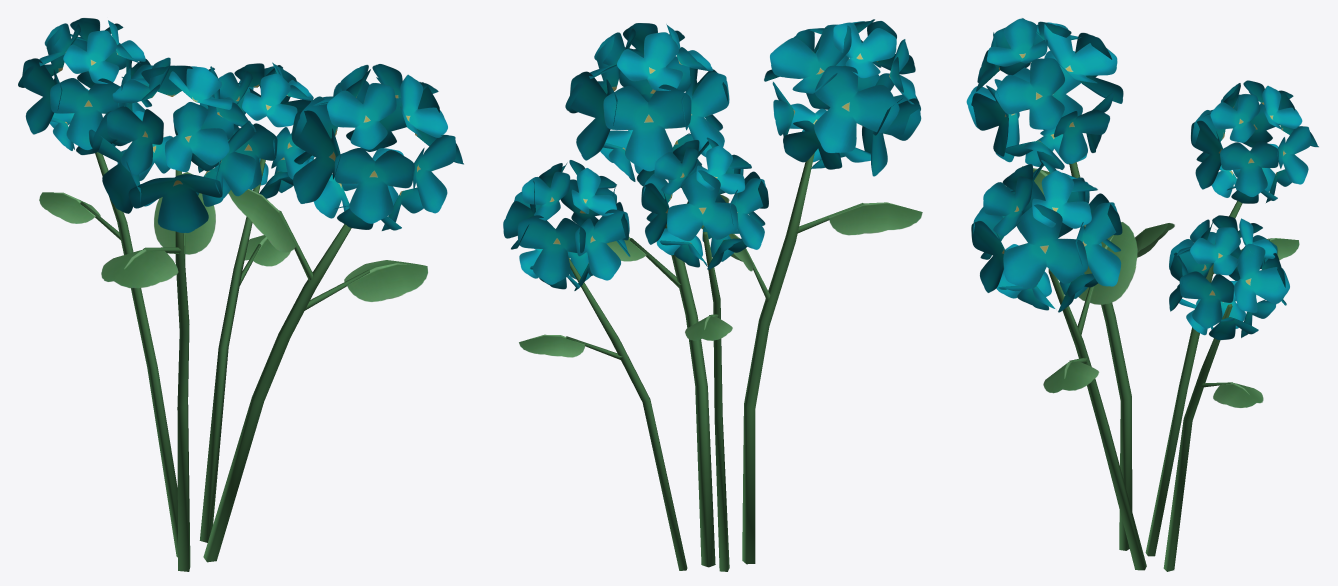
Rendered from Flower_1_Clump.glb.
3 views of the same model, side by side, from view 1: azimuth 30°, elevation 25°; view 2: azimuth 150°, elevation 25°; view 3: azimuth 270°, elevation 25° (orthographic). The views are drawn at different scales.
Parts seen in each view (by area): view 1: Flower_1_Clump; view 2: Flower_1_Clump; view 3: Flower_1_Clump.
Part boxes in pixels (box(x1,y1,x2,y2)): Flower_1_Clump: box(18, 18, 463, 571); Flower_1_Clump: box(503, 19, 922, 571); Flower_1_Clump: box(966, 18, 1318, 571).
Size of the model in its own units: 0.4711 by 0.6713 by 0.4352.
1 material, 1 textured.
